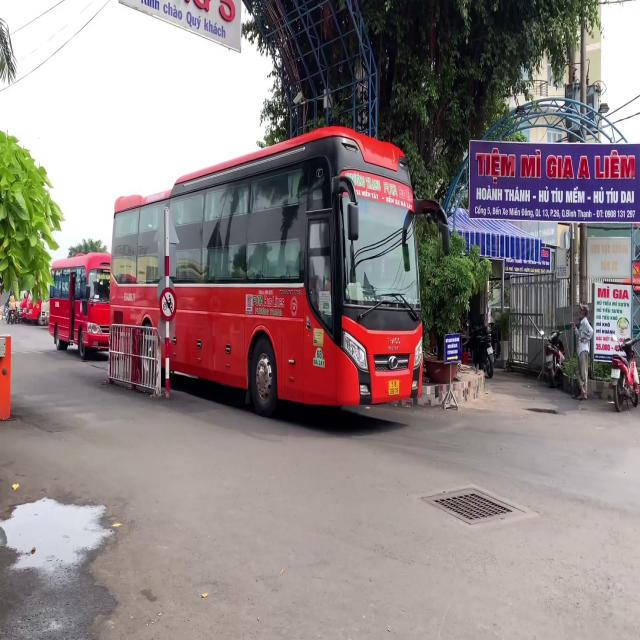bien_vang: (388, 380, 400, 396)
